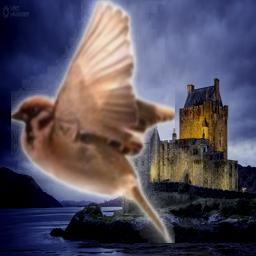Sparrow: (11, 0, 175, 243)
